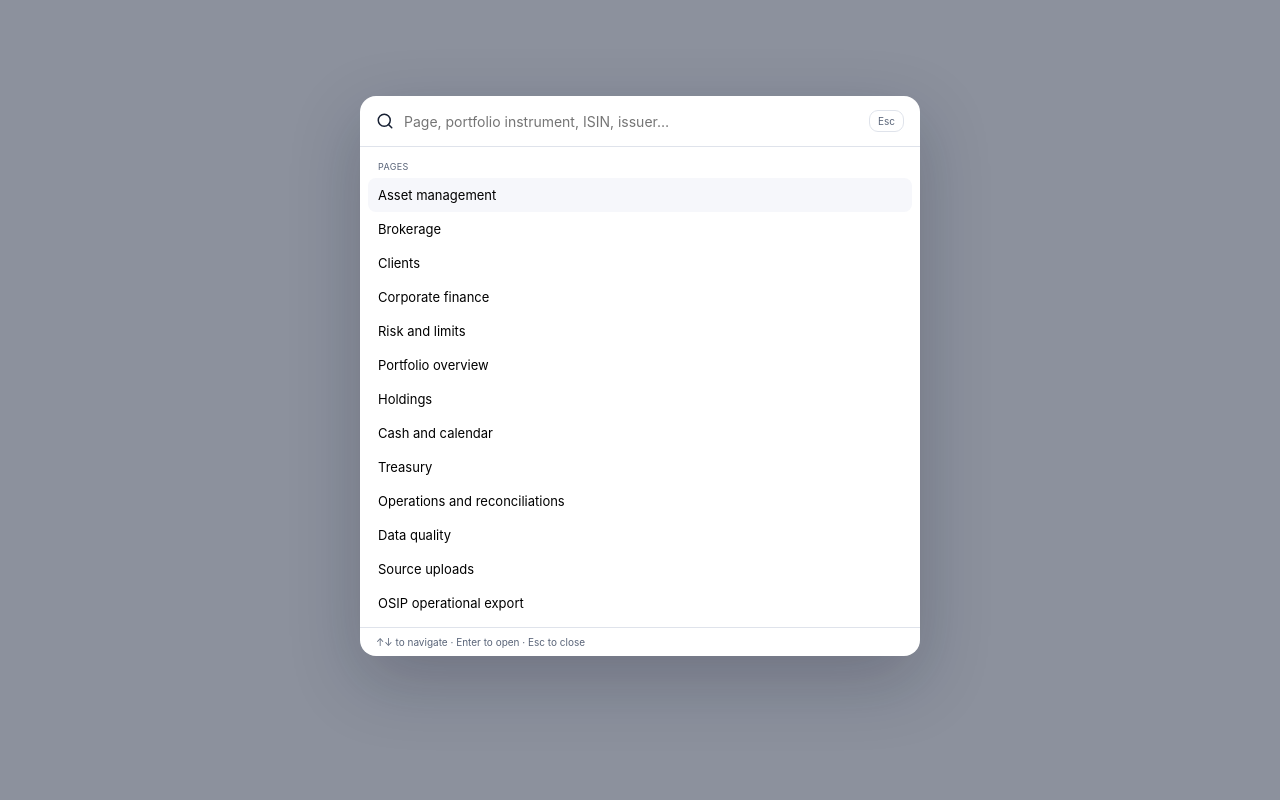
CommandPalette › shows no-results text for an unmatched query
Type "does-not-exist" into the field with placeholder "Page, portfolio instrument, ISIN, issuer…" at point(632, 121), box [404,112,859,130]
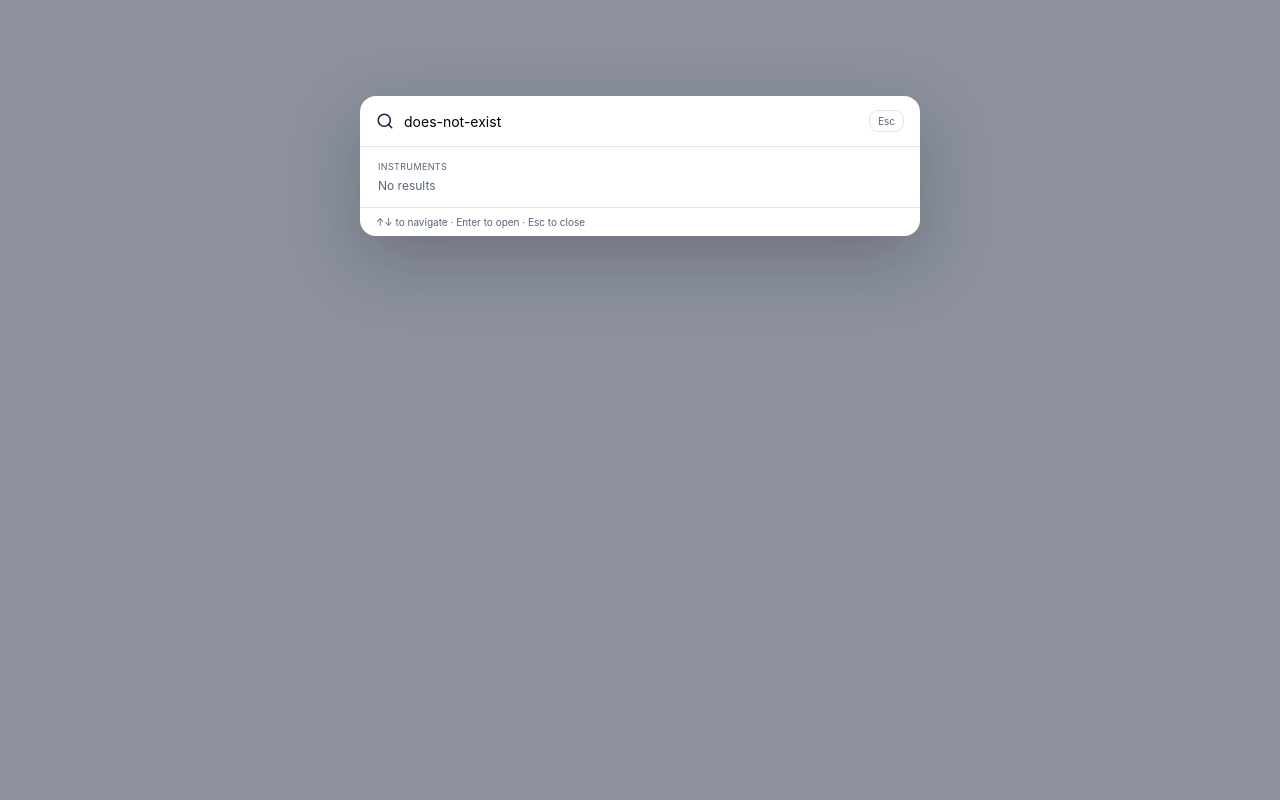
Expected: the text "No results" is shown, [378,178,436,193]
